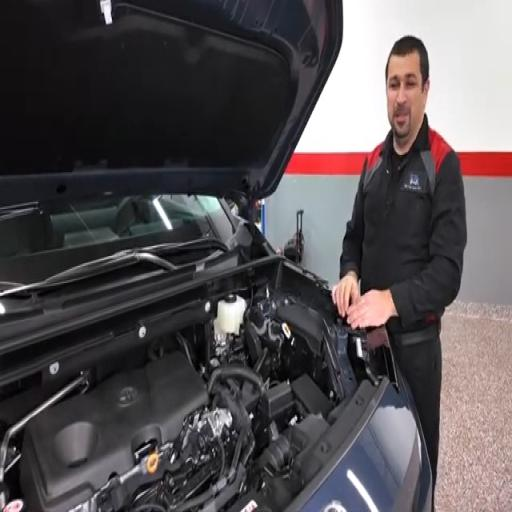bumper: (300, 386, 431, 511)
emblem: (119, 387, 138, 405), (322, 501, 346, 511)
hood: (0, 0, 343, 204)
window: (0, 195, 233, 280)
windshield: (0, 195, 233, 284)
